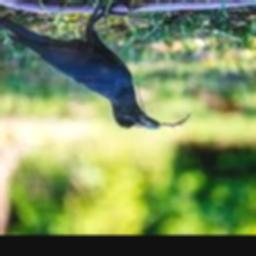Crow: (0, 8, 159, 129)
